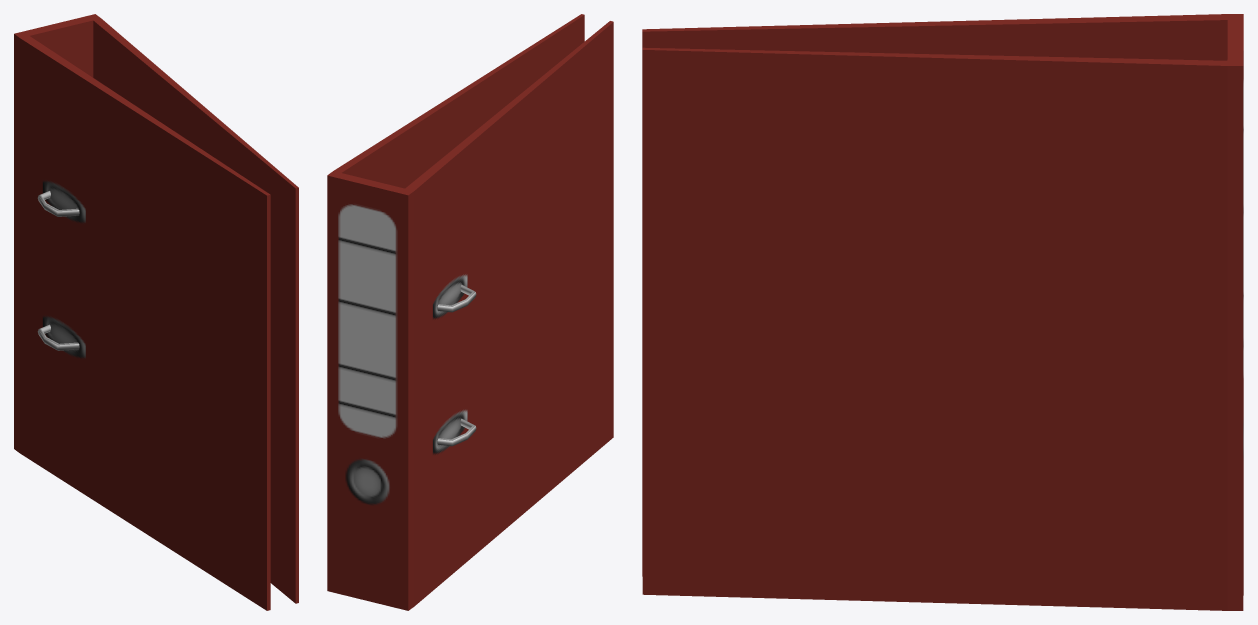
File: Binder.fbx
The picture shows the model from 3 angles, left to right: view 1: azimuth 30°, elevation 25°; view 2: azimuth 150°, elevation 25°; view 3: azimuth 270°, elevation 25°; orthographic projection. The views are drawn at different scales.
Visible parts, largest first — view 1: Binder; view 2: Binder; view 3: Binder.
Part boxes in pixels (left/top/right/bottom): Binder: left=14, top=14, right=298, bottom=610; Binder: left=327, top=14, right=613, bottom=610; Binder: left=642, top=14, right=1243, bottom=610.
Bounding box in the file's own units: 6.74 × 27.85 × 27.86.
